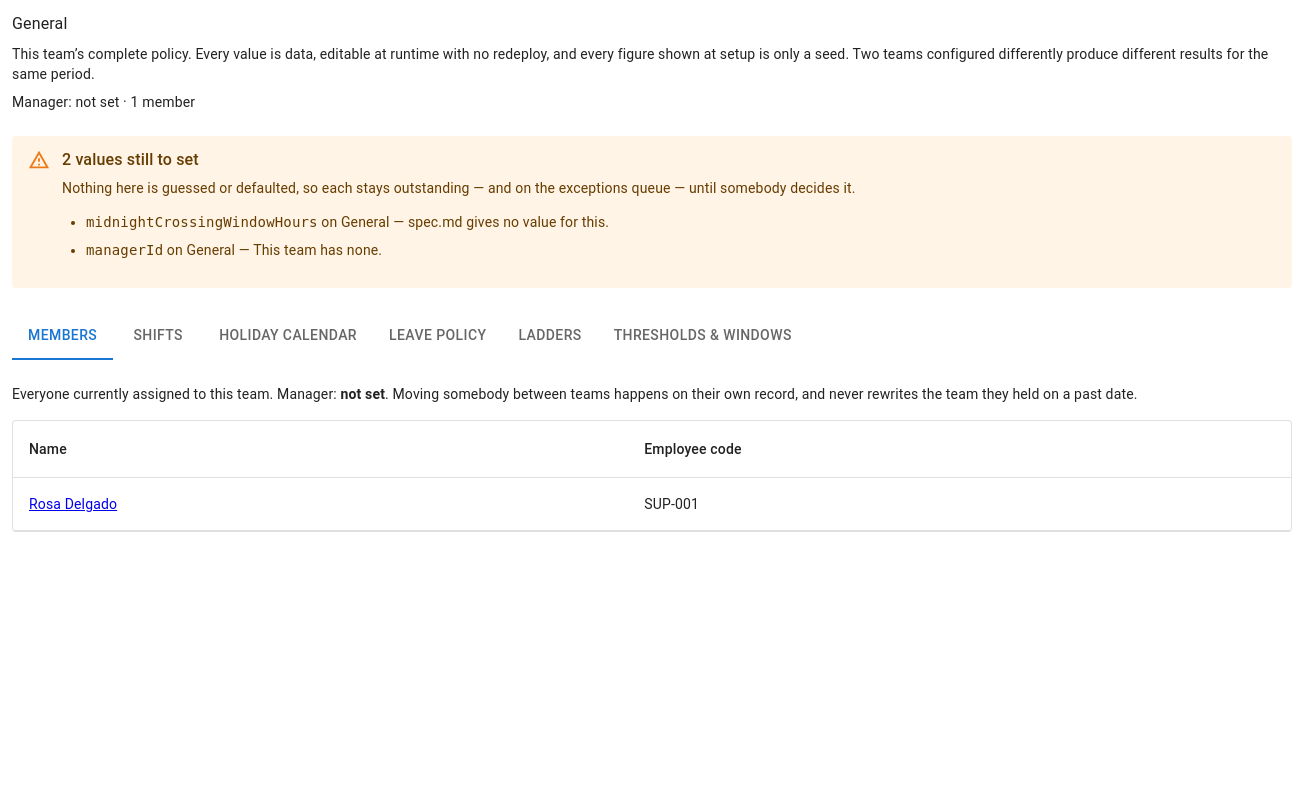
Test: TeamConfiguration › shows each shift with its own timezone
Click the tab "Shifts" at (158, 336), box [113, 312, 203, 360]
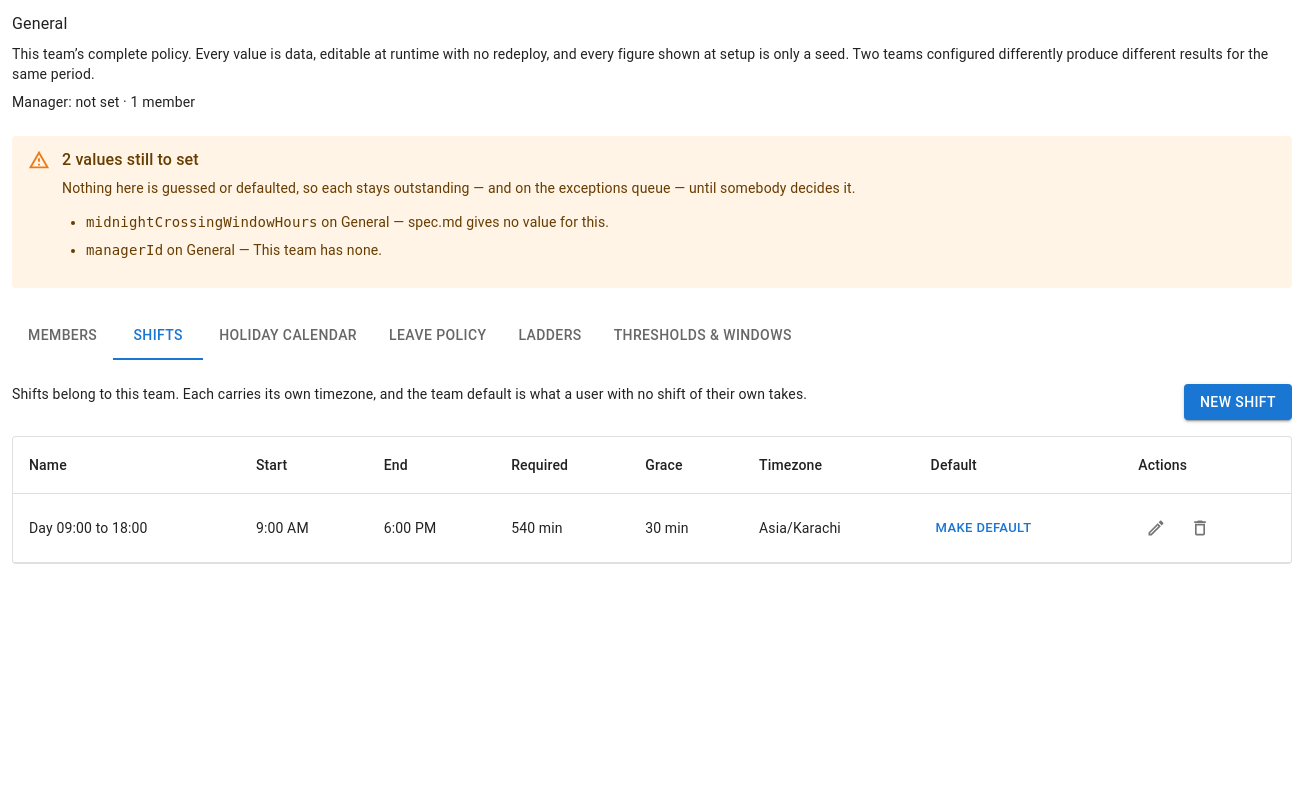
Expected: the text "Asia/Karachi" is shown, [759, 520, 841, 536]
Expected: the text "Day 09:00 to 18:00" is shown, [13, 494, 240, 563]
